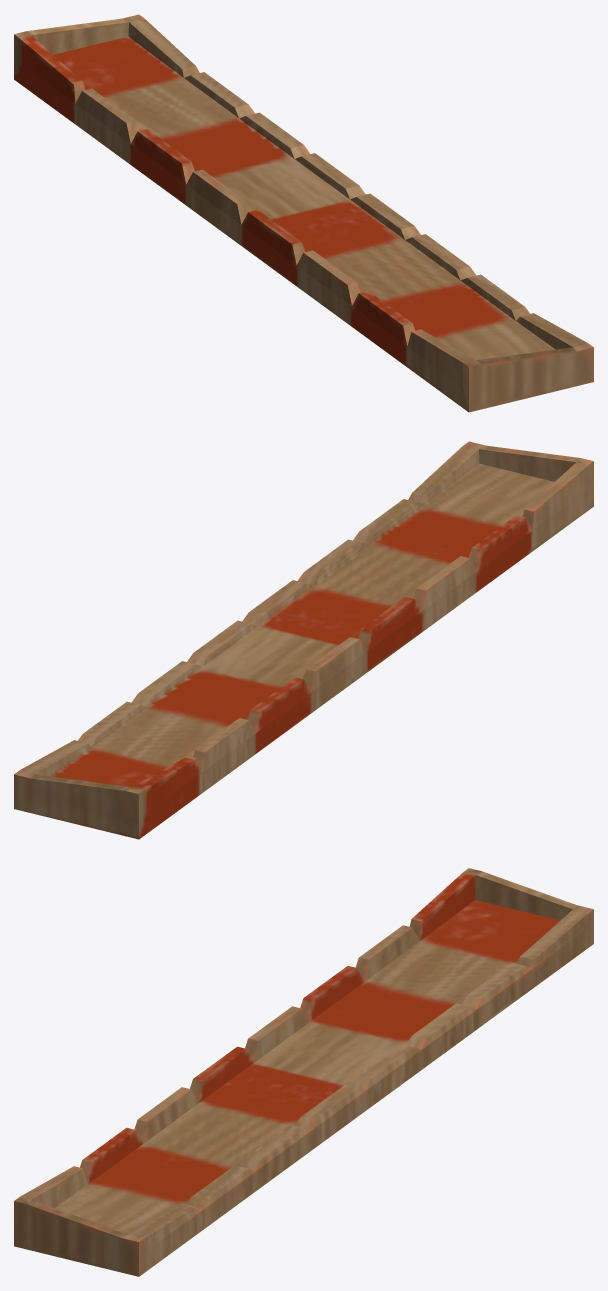
File: SM_Kidroom_CubeGame_Handle_Mat_.fbx
3 renders of one model, top to bottom at view 1: azimuth 30°, elevation 25°; view 2: azimuth 150°, elevation 25°; view 3: azimuth 330°, elevation 25°, orthographic.
Parts seen in each view (by area): view 1: SM_CubeGame_Handle; view 2: SM_CubeGame_Handle; view 3: SM_CubeGame_Handle.
Part boxes in pixels (x1,y1,x2,y2): SM_CubeGame_Handle: (14, 14, 593, 412); SM_CubeGame_Handle: (14, 441, 593, 839); SM_CubeGame_Handle: (14, 868, 593, 1276).
Bounding box in the file's own units: 0.1581 × 0.0547 × 0.996.
